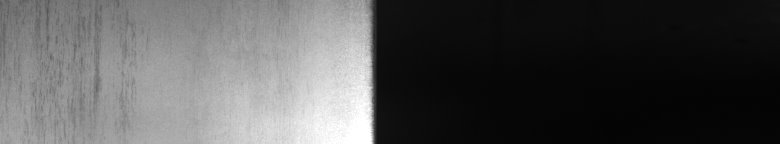ka: (40, 8, 103, 98)
